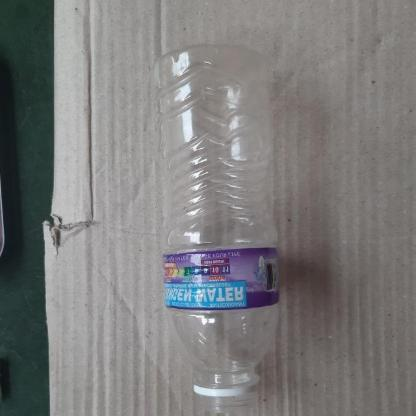Plastic Bottle: (156, 43, 278, 414)
